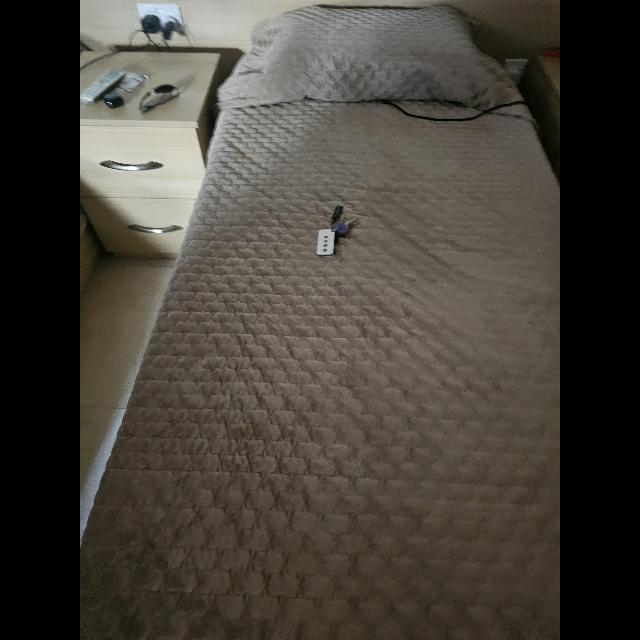Keys: (316, 206, 358, 256)
Sunglasses: (138, 82, 180, 114)
